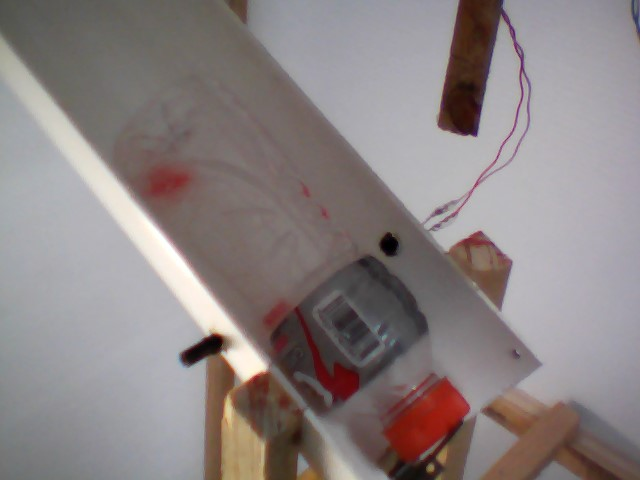plastico: (110, 66, 477, 468)
